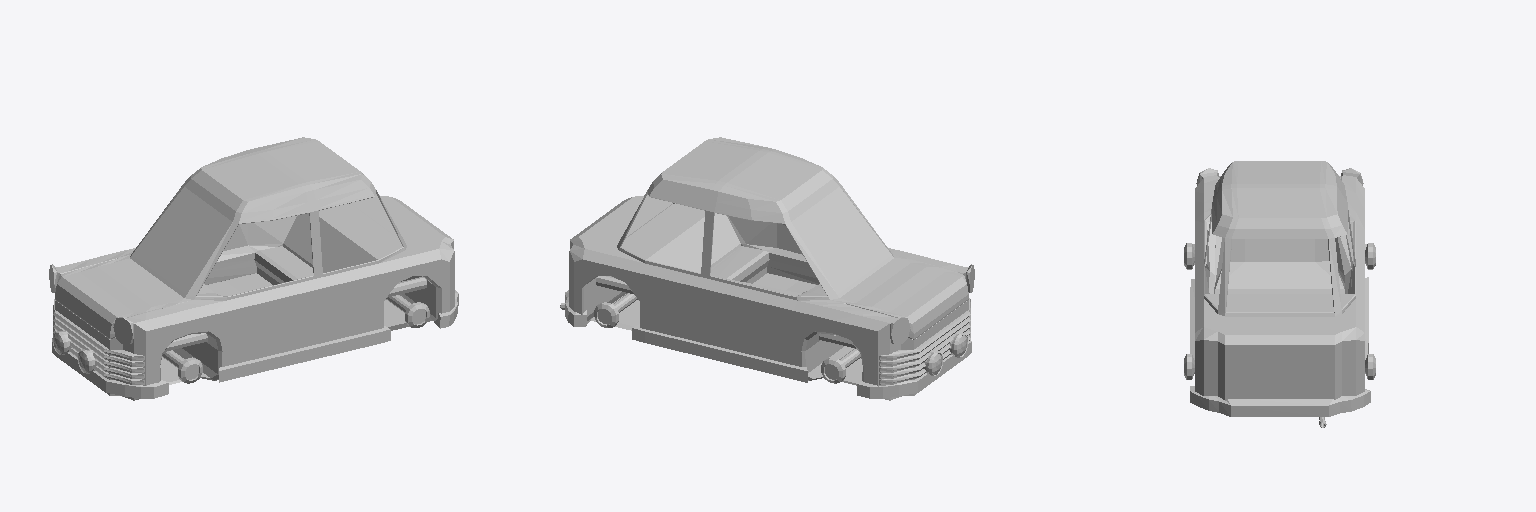
File: broken car lp.obj
3 views of the same model, side by side, from view 1: azimuth 30°, elevation 25°; view 2: azimuth 150°, elevation 25°; view 3: azimuth 270°, elevation 25° (orthographic).
Visible parts, largest first — view 1: Cube_Cube.001; view 2: Cube_Cube.001; view 3: Cube_Cube.001.
Boxes of the visible parts, x1=… form: Cube_Cube.001: x1=49, y1=137, x2=458, y2=400; Cube_Cube.001: x1=560, y1=137, x2=974, y2=400; Cube_Cube.001: x1=1184, y1=161, x2=1375, y2=427.
Bounding box in the file's own units: 8.28 × 3.52 × 3.7.